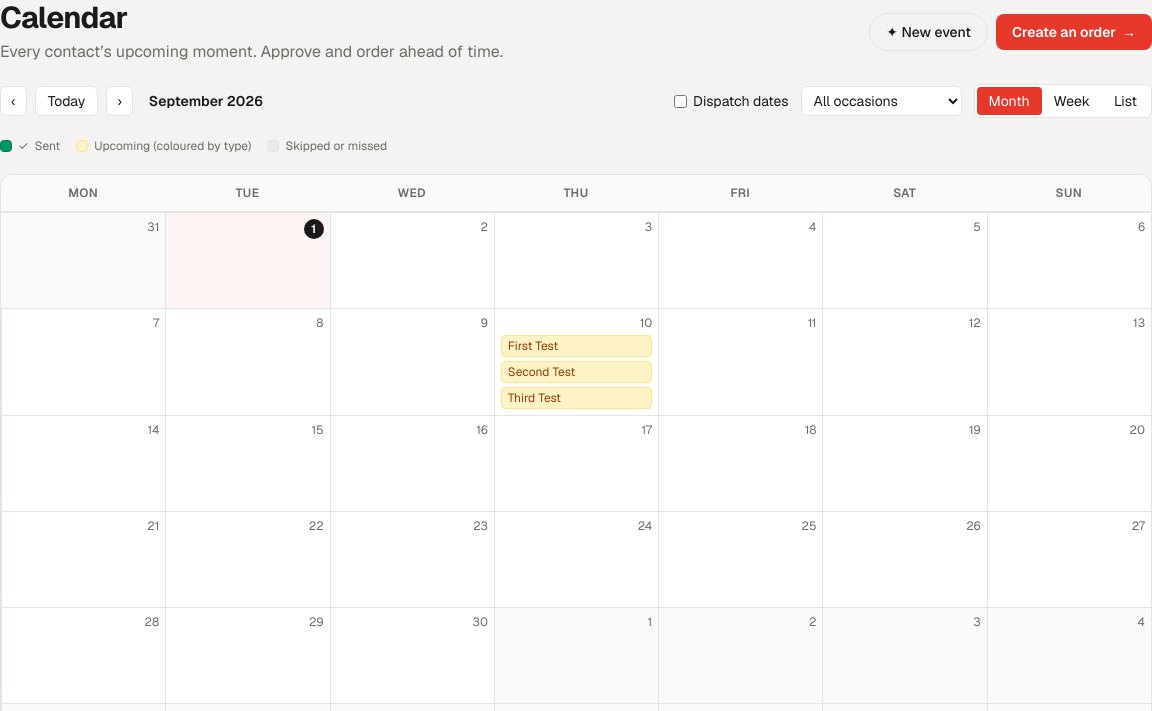
Test case: CalendarClient list view selection › selects every ready card at once, and clears them again
The width and height of the screenshot is (1152, 711).
Click the button "list": (1126, 101) [1102, 87, 1149, 115]
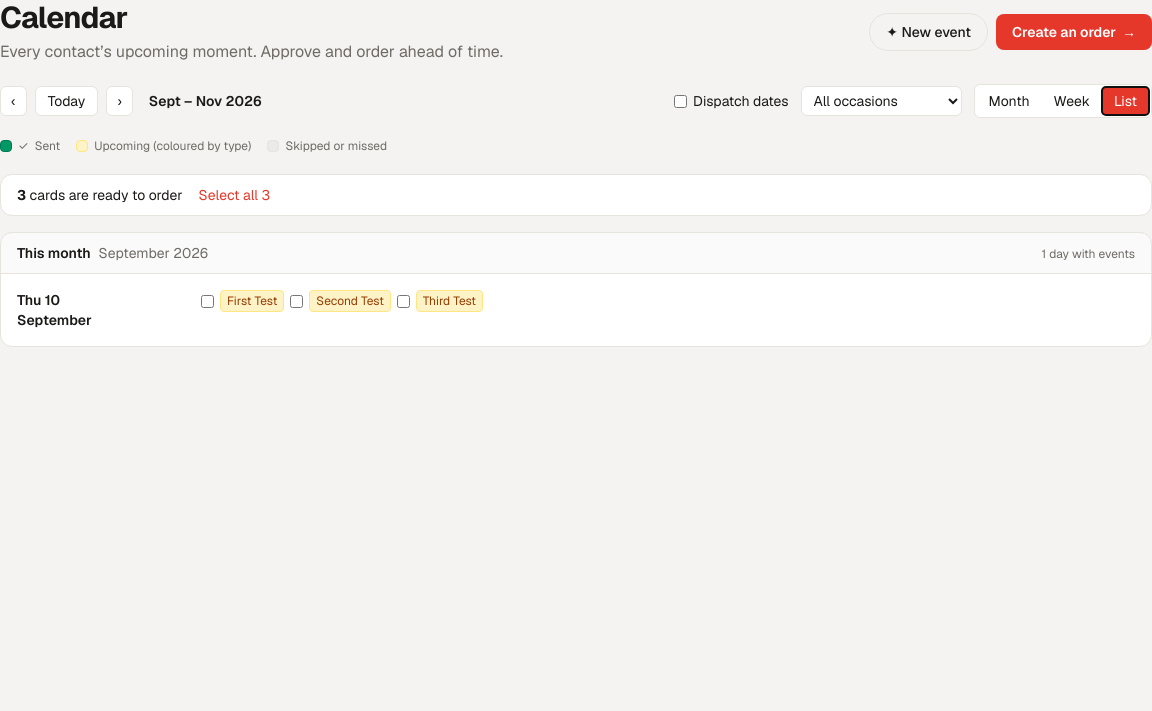
Click the button "Select all 3": (234, 195) [199, 185, 270, 205]
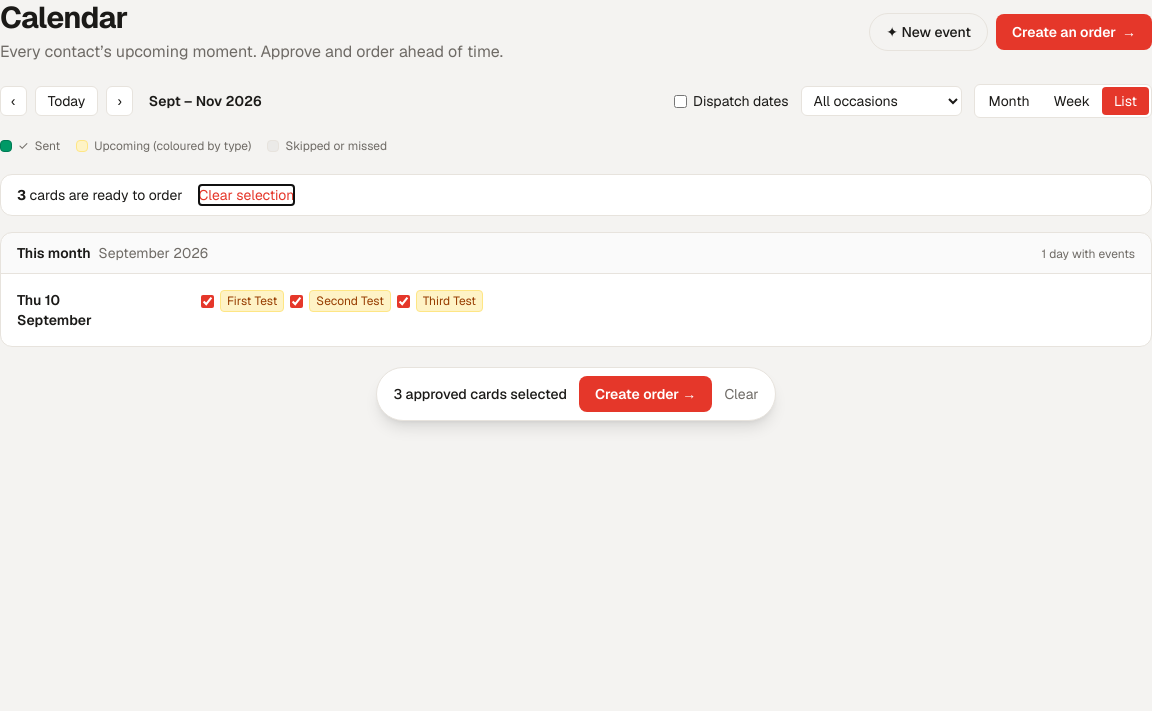
expect the text "3 approved cards selected" is shown: met, box [393, 384, 567, 404]
Click the button "Clear selection": (246, 195) [199, 185, 294, 205]
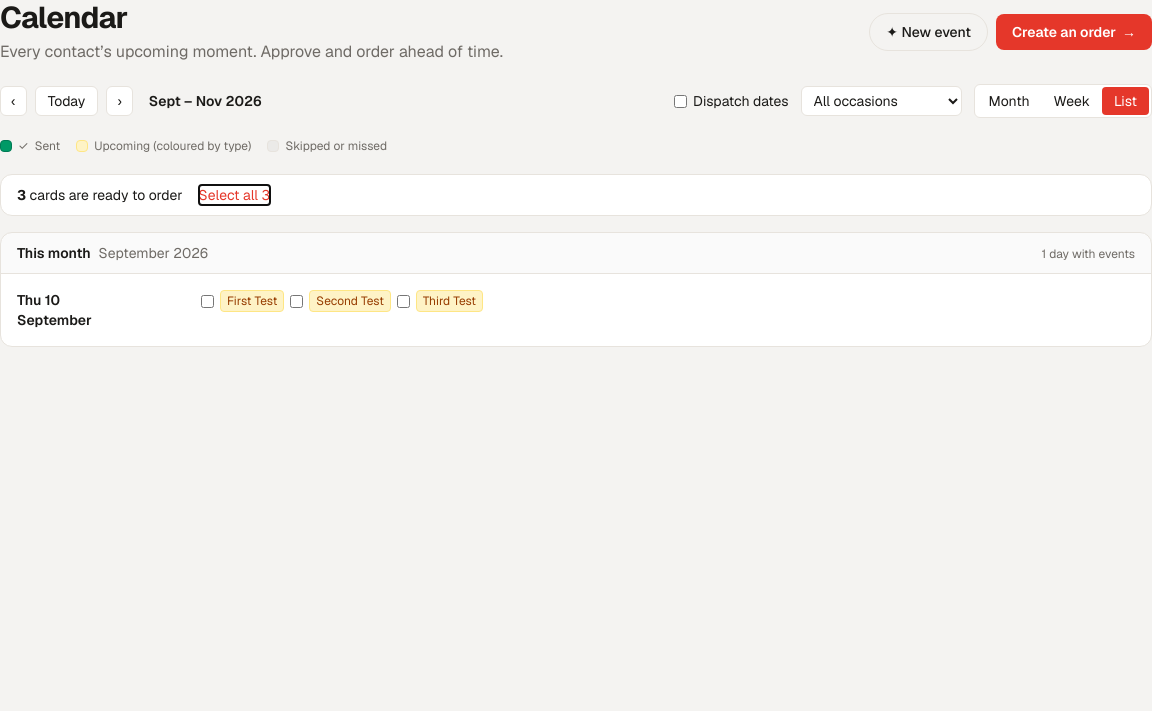
expect the text "approved cards selected" is gone: met
